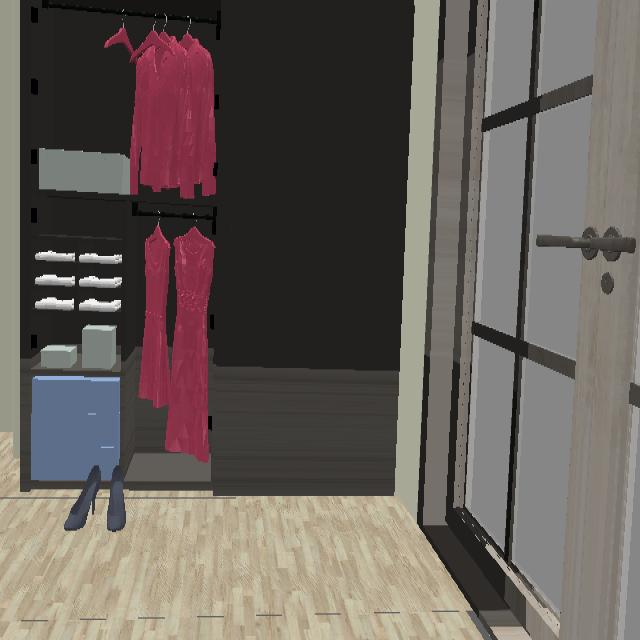wardrobe: (20, 0, 414, 493)
